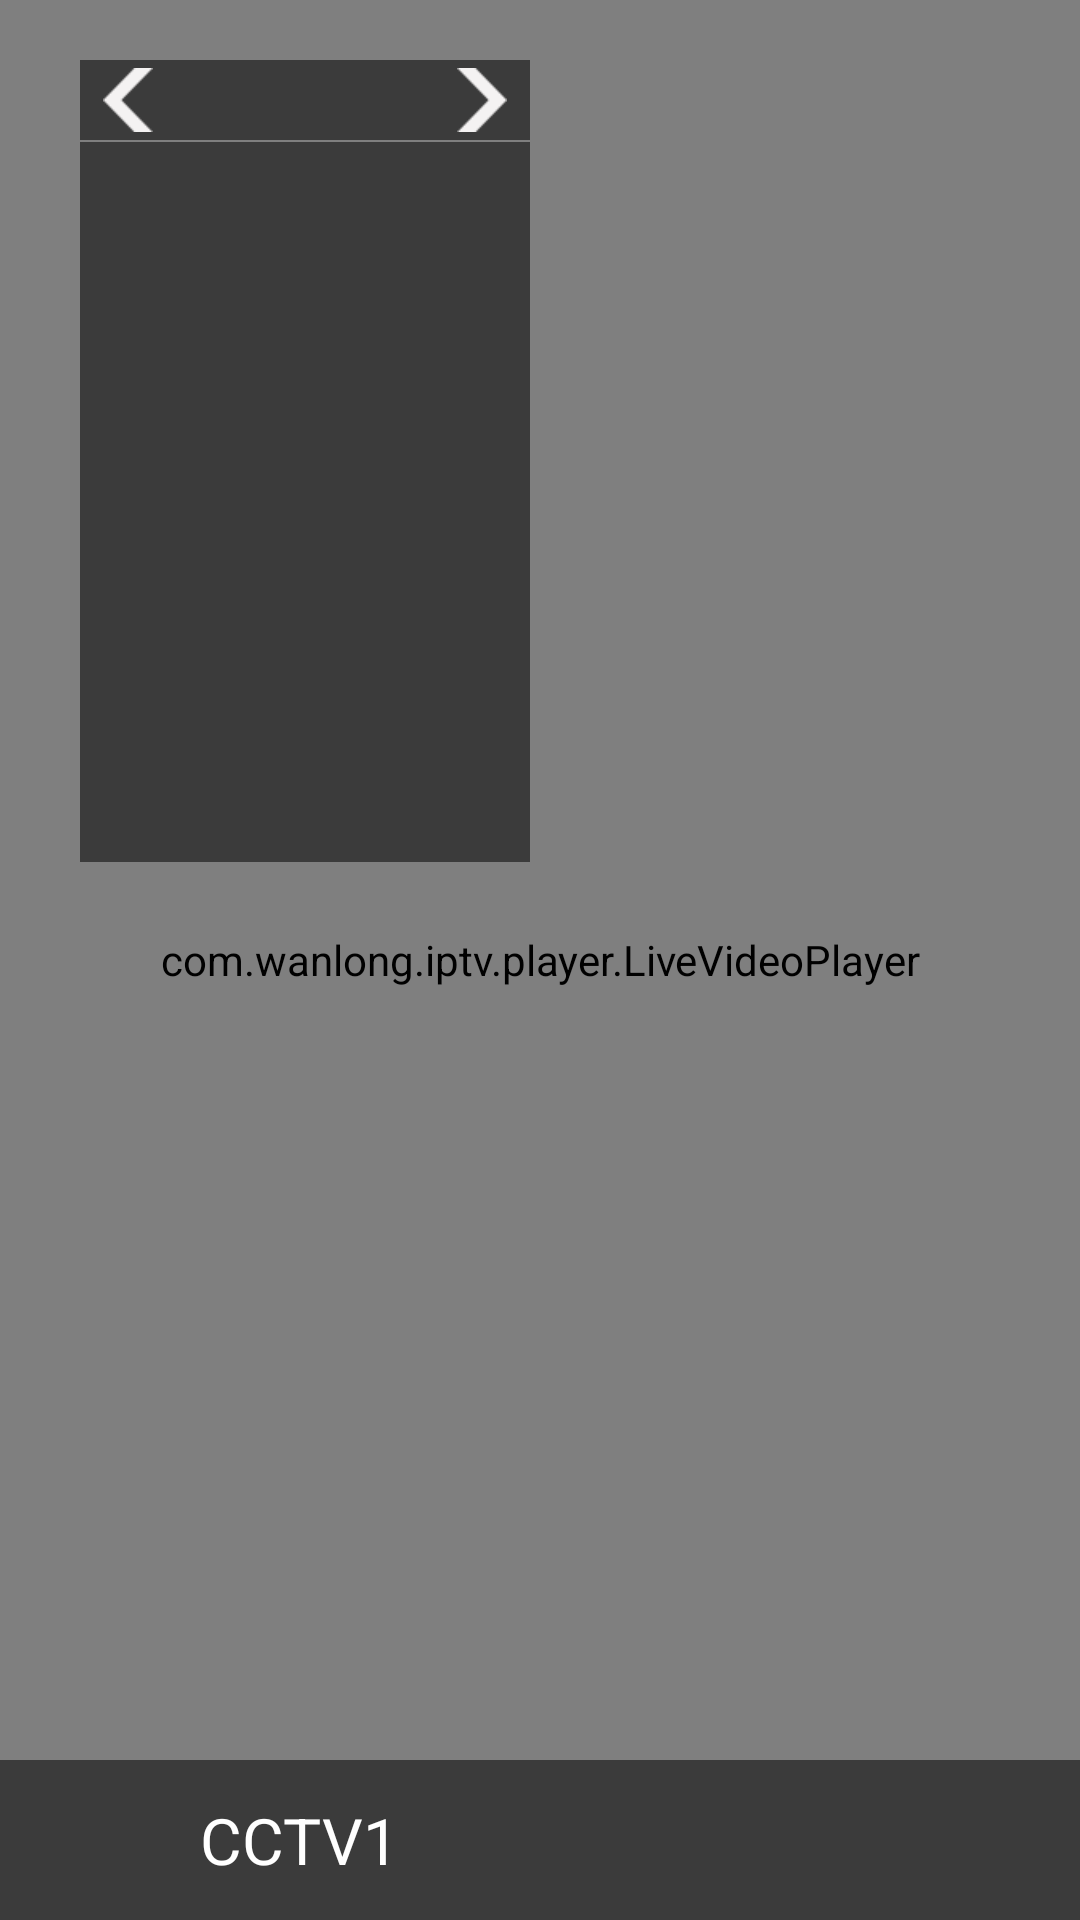

Icons on this 1080×1920 Android screen, each with its box as bbox=[x1, y1, x2, y2]:
arrow left: bbox=[103, 68, 153, 132]
arrow right: bbox=[457, 68, 507, 132]
